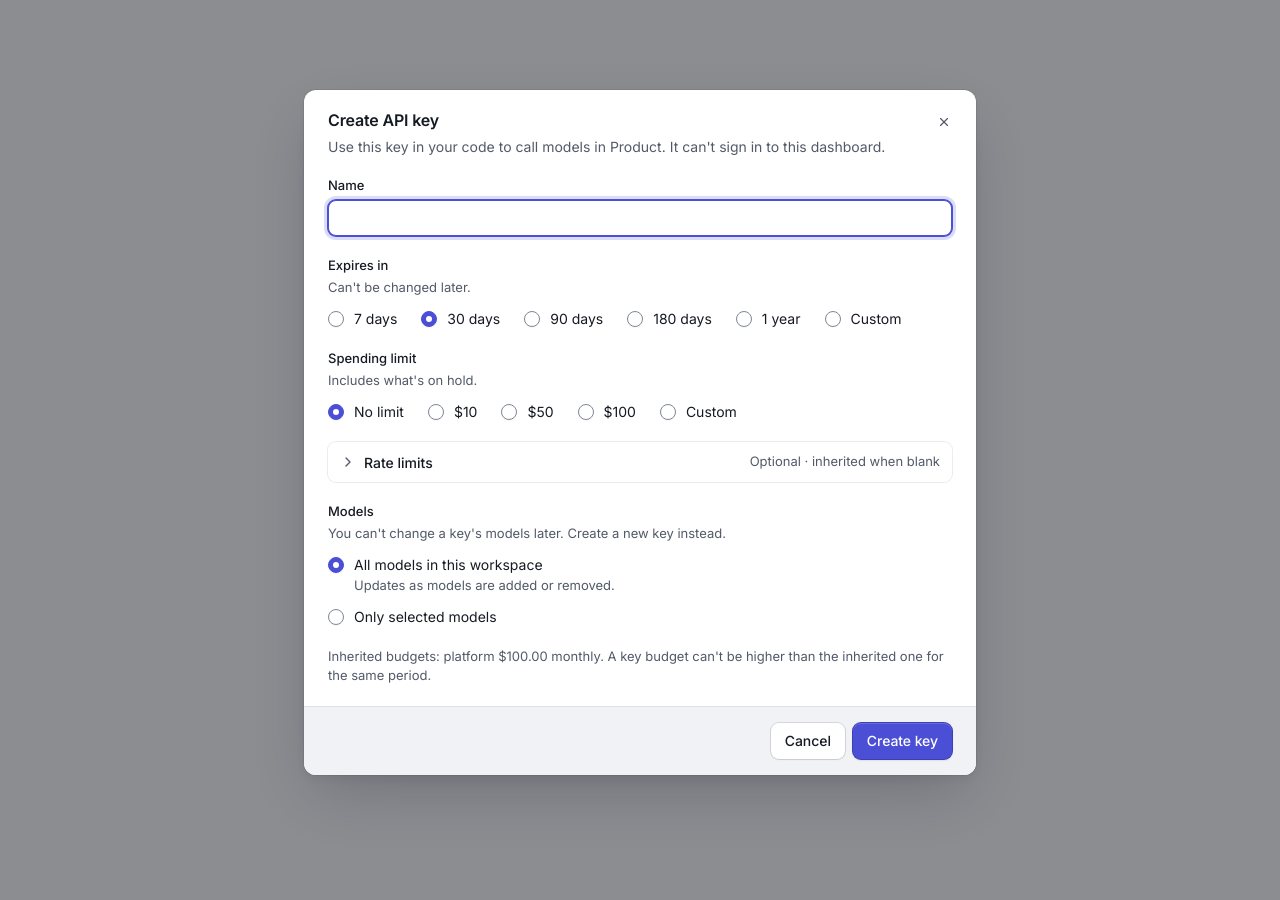
Test case: Create key sends its limits in the create request › sends no limit fields when none are set (the key inherits)
In the field labelled "Name": (640, 218) [328, 200, 952, 236], type "Laptop"
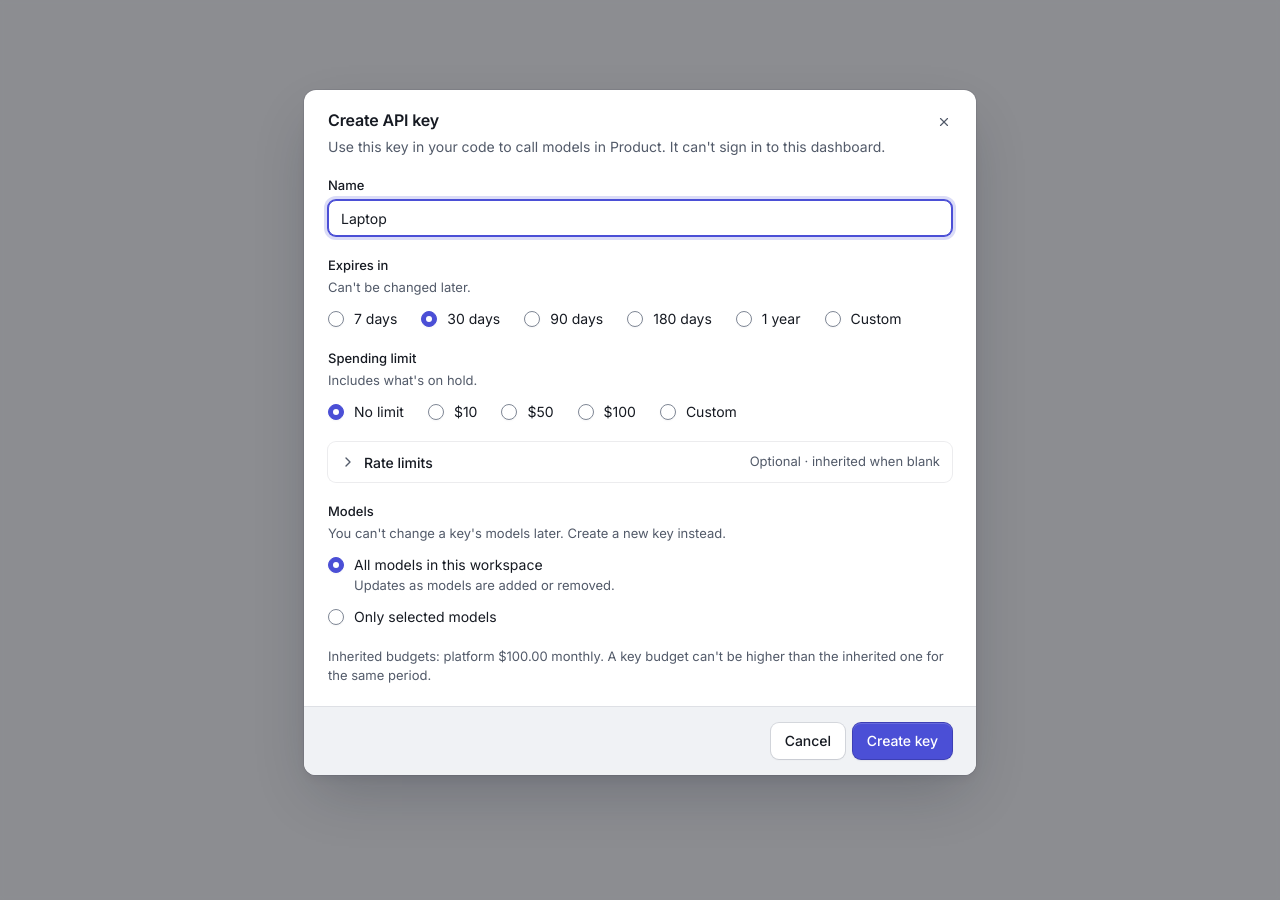
Click the button "Create key": (902, 741) [853, 723, 952, 759]
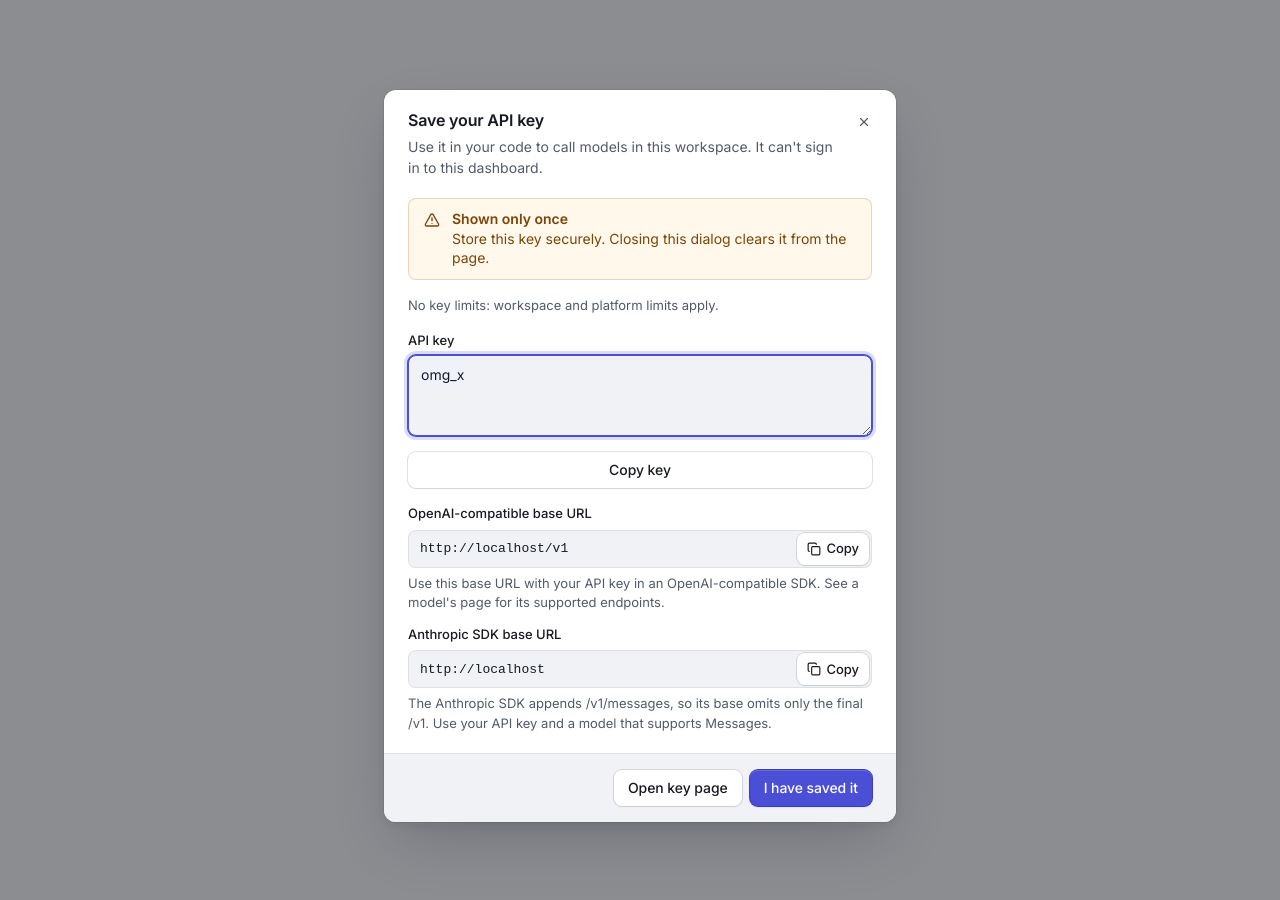
Expected: the text "No key limits: workspace and platform limits apply." is shown, [408, 297, 719, 313]
